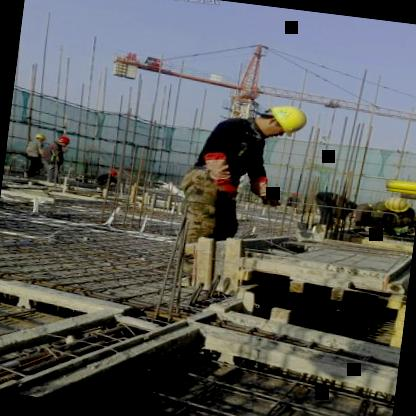helmet: (255, 100, 312, 139), (381, 193, 413, 213), (53, 132, 74, 147), (27, 130, 48, 143), (107, 165, 120, 176)
